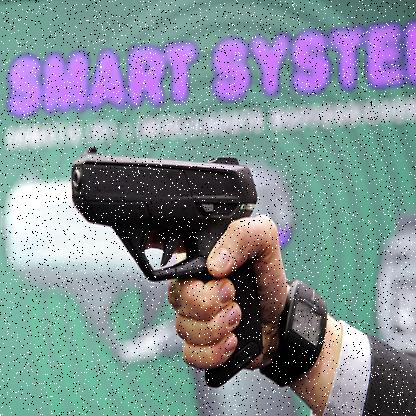pistol: (73, 138, 265, 392)
